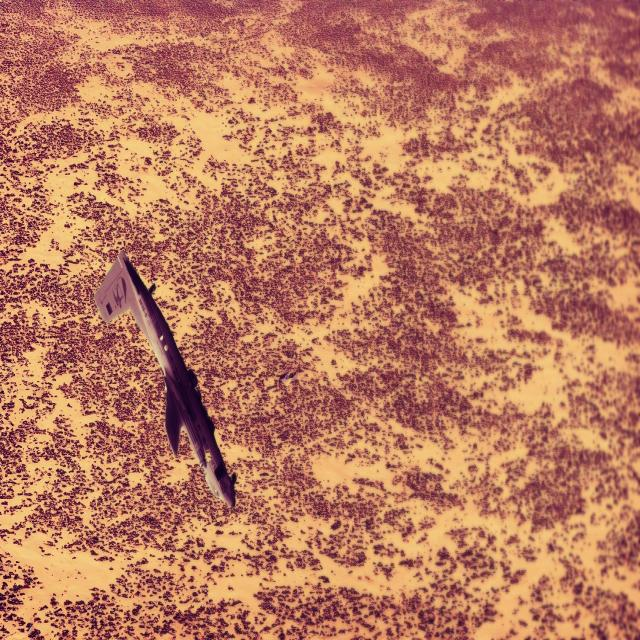airplane: (93, 249, 236, 508)
